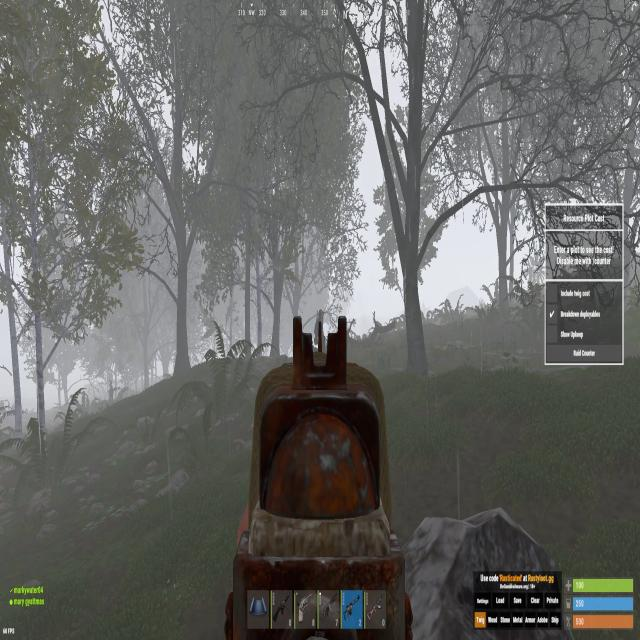Player: (314, 308, 325, 352)
